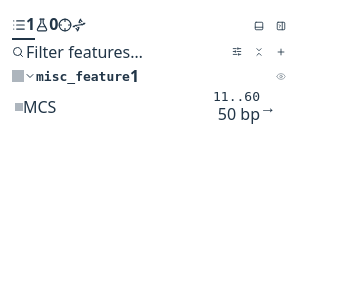
Test: FeatureSidebar hover card and context menu › takes away a card already showing when the menu opens
Step 1. Hover over the option "MCS 11..60 50 bp →" → {"x": 40, "y": 107}, box left=12, top=89, right=292, bottom=124
Wait 500 ms
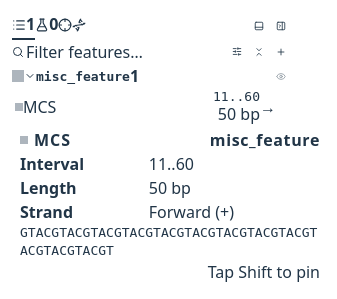
Expected: the element with class "ft-tooltip-name" is shown, left=20, top=128, right=320, bottom=152
Step 2. Right-click the option "MCS 11..60 50 bp →" → {"x": 40, "y": 107}, box left=12, top=89, right=292, bottom=124
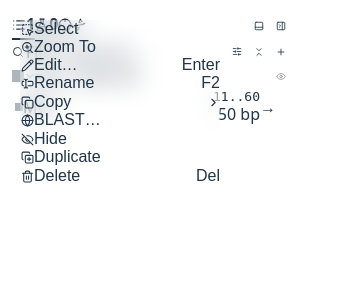
Expected: the element with class "ft-tooltip-name" is gone
